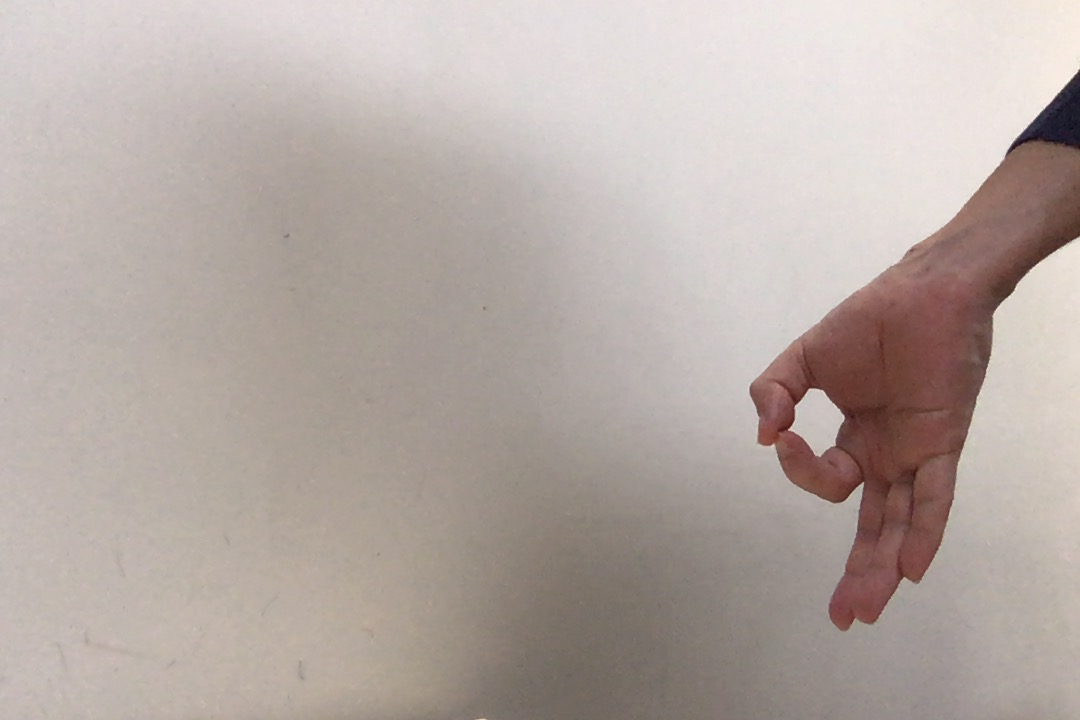oksign: (742, 266, 996, 635)
